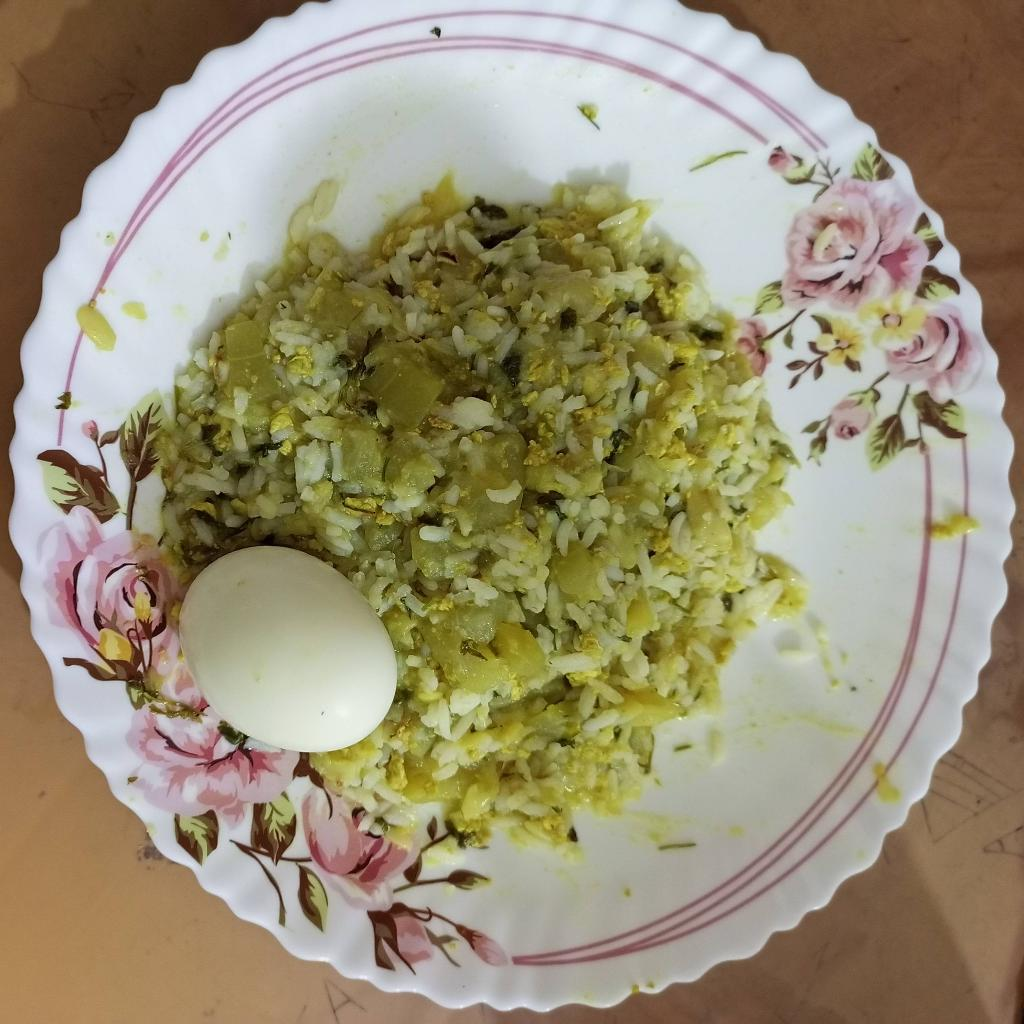egg-boiled: (179, 546, 397, 753)
khichuri: (159, 178, 799, 846)
